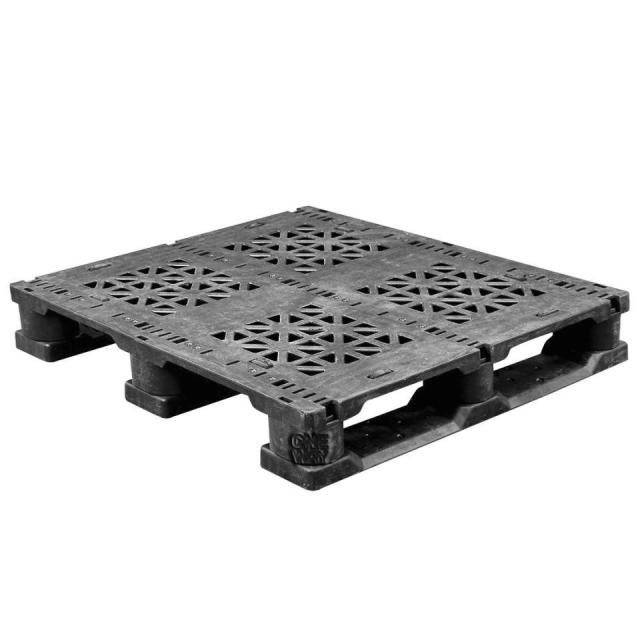non-igps: (0, 192, 640, 498)
